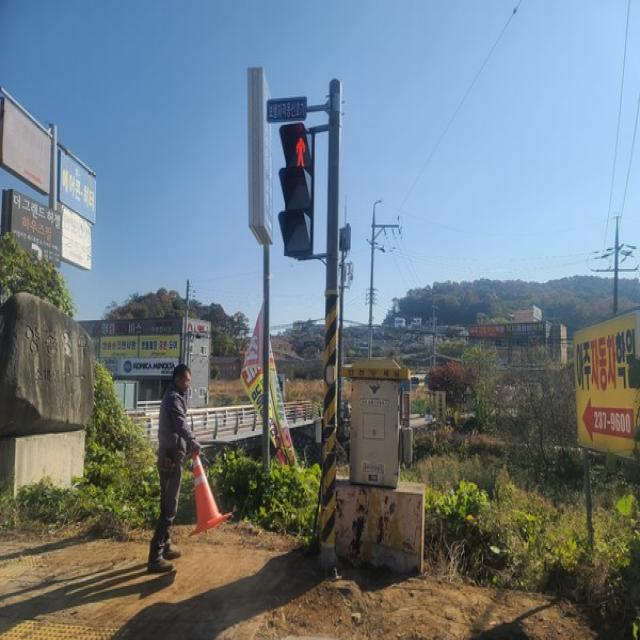Not go: (270, 115, 328, 257), (280, 133, 314, 169)
